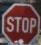Stop sign: (0, 0, 40, 44)
